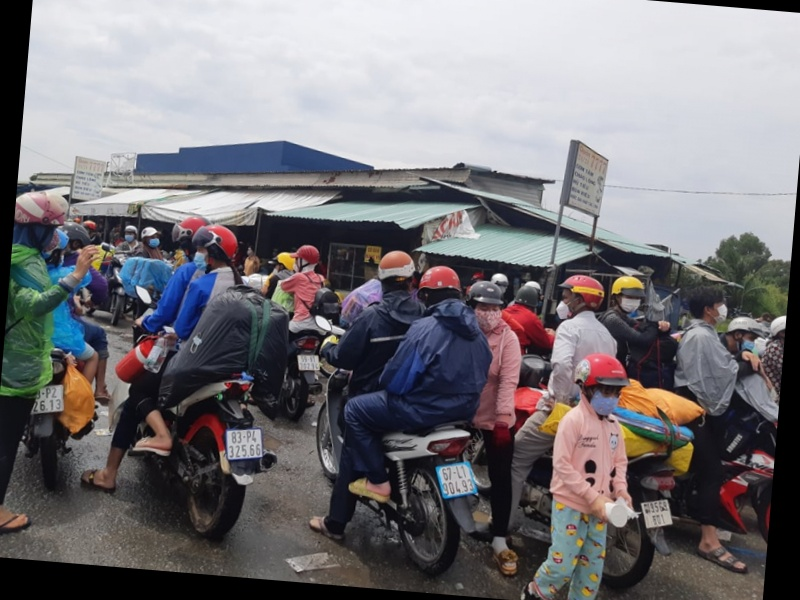Bien-so: (444, 460, 489, 499), (226, 456, 266, 493), (654, 473, 693, 507), (27, 440, 59, 472), (288, 379, 317, 398)
